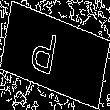P_S: (39, 26, 71, 84)
